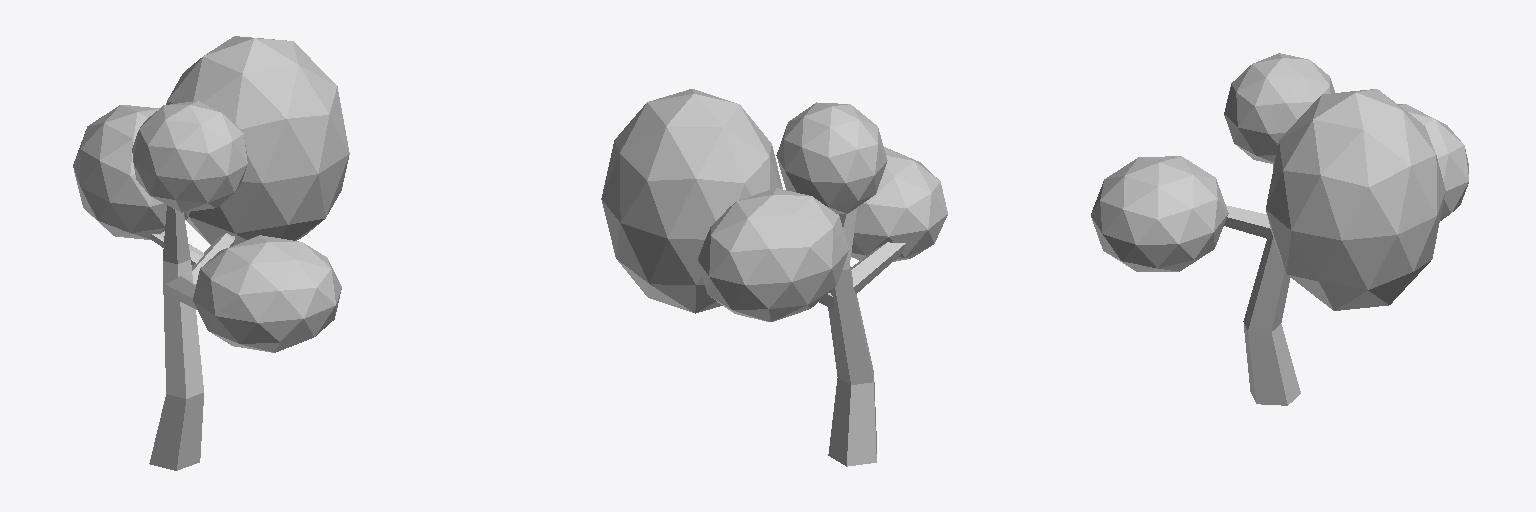
The model's file is Bush3.obj.
3 renders of one model, left to right at view 1: azimuth 30°, elevation 25°; view 2: azimuth 150°, elevation 25°; view 3: azimuth 270°, elevation 25°, orthographic.
Parts seen in each view (by area): view 1: Cylinder.013; view 2: Cylinder.013; view 3: Cylinder.013.
Boxes of the visible parts, x1=… form: Cylinder.013: x1=73, y1=36, x2=349, y2=470; Cylinder.013: x1=601, y1=89, x2=947, y2=466; Cylinder.013: x1=1091, y1=53, x2=1468, y2=405.
Bounding box in the file's own units: 3.08 × 4.45 × 4.22.